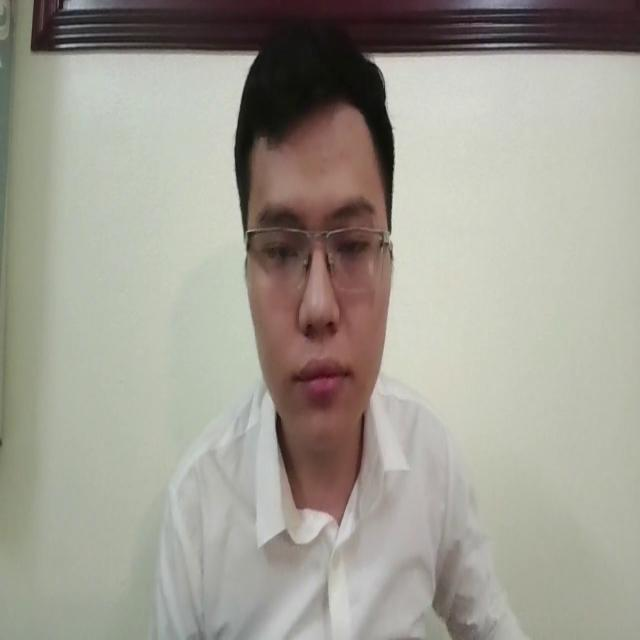student: (137, 18, 523, 640)
